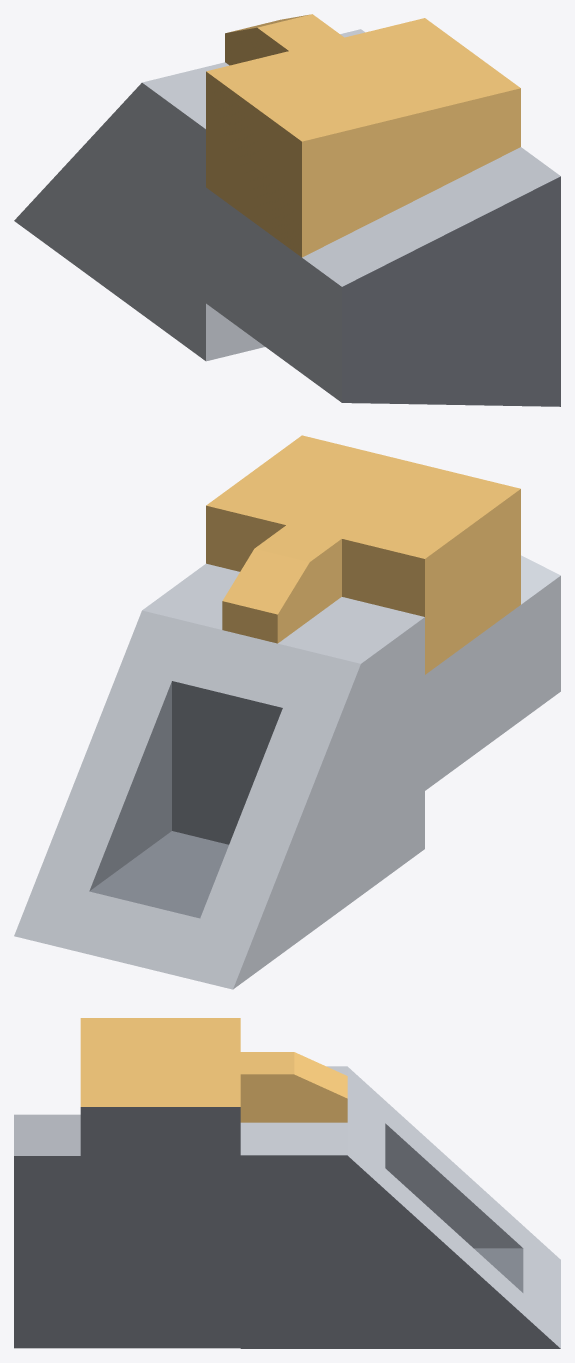
File: pod_port.glb
3 views of the same model, one above another, from view 1: azimuth 30°, elevation 25°; view 2: azimuth 150°, elevation 25°; view 3: azimuth 270°, elevation 25° (orthographic). The views are drawn at different scales.
Bounding box in the file's own units: 0.79 × 1 × 2.05.
